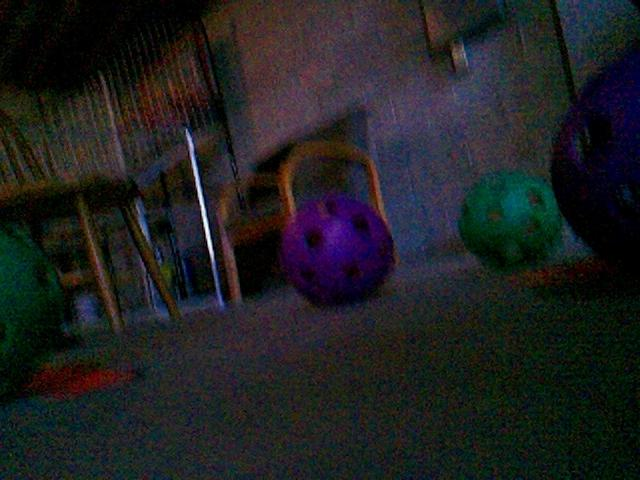Green: (0, 220, 70, 399), (454, 168, 562, 270)
Purple: (553, 32, 640, 280), (278, 194, 395, 305)
